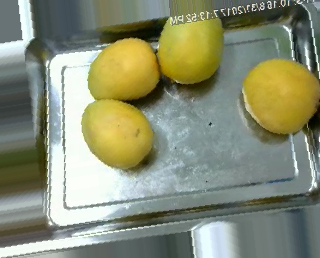Mango: (235, 53, 320, 140), (77, 95, 160, 178), (156, 11, 228, 91), (82, 35, 162, 103)
